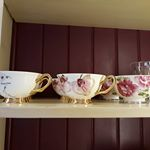cups: (55, 70, 118, 107), (1, 68, 52, 105)
